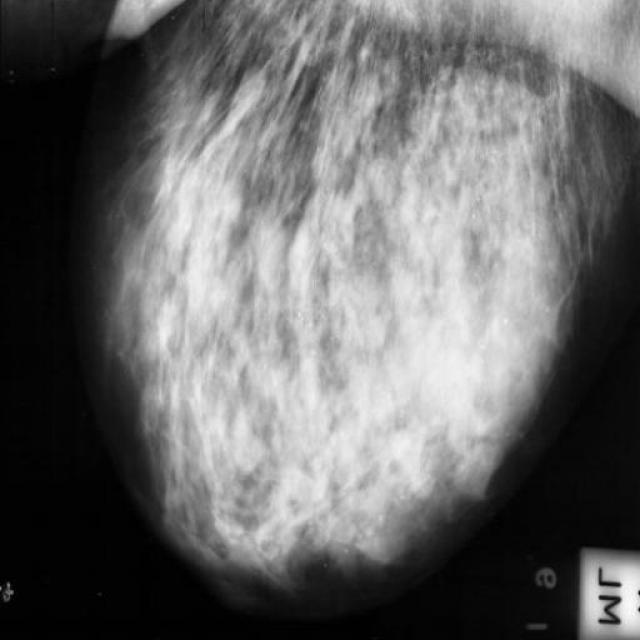cancer: (160, 86, 590, 548)
